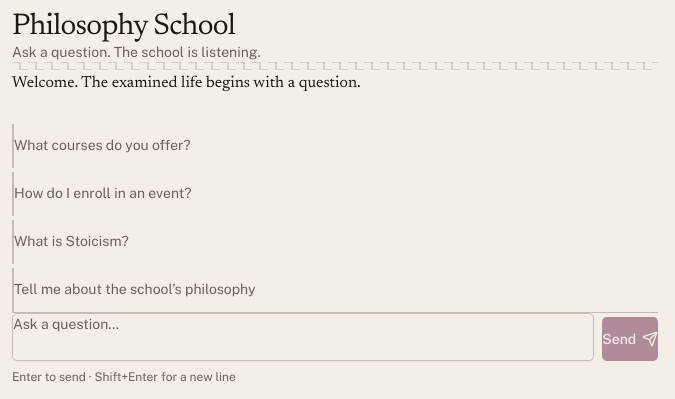
Test: usability-002 — thinking indicator visible while status=sending › ThinkingTurn does not appear when status=idle after a resolved turn
Type "Hello" into the text box at (303, 337), box x1=12 y1=313 x2=594 y2=361
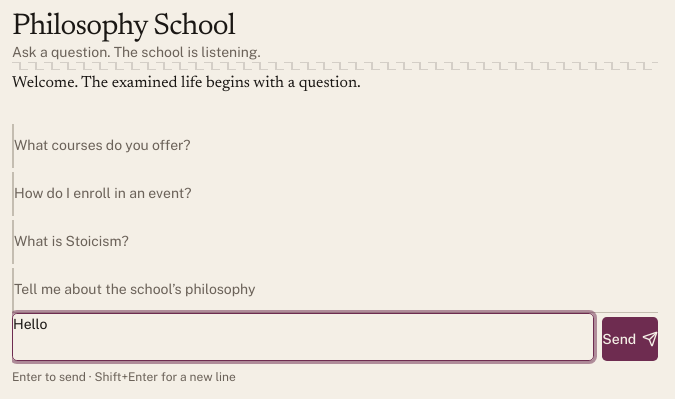
Press Enter
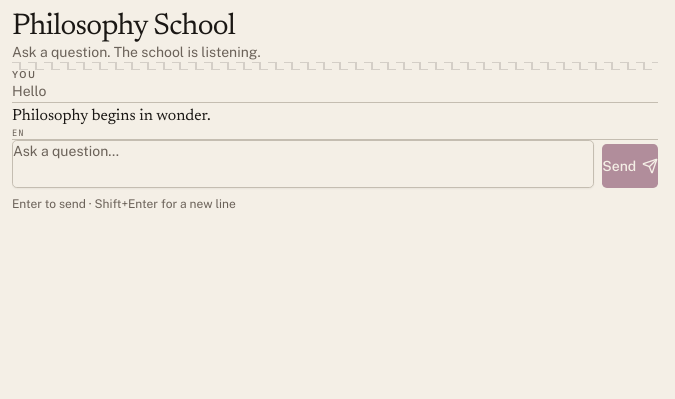
Result: the text "Philosophy begins in wonder." is shown at x1=12 y1=108 x2=211 y2=124
